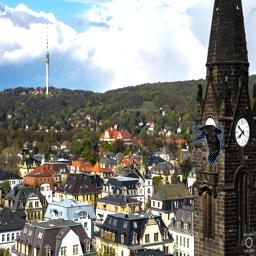Crow: (192, 125, 224, 165)
Swallow: (117, 156, 145, 184)
